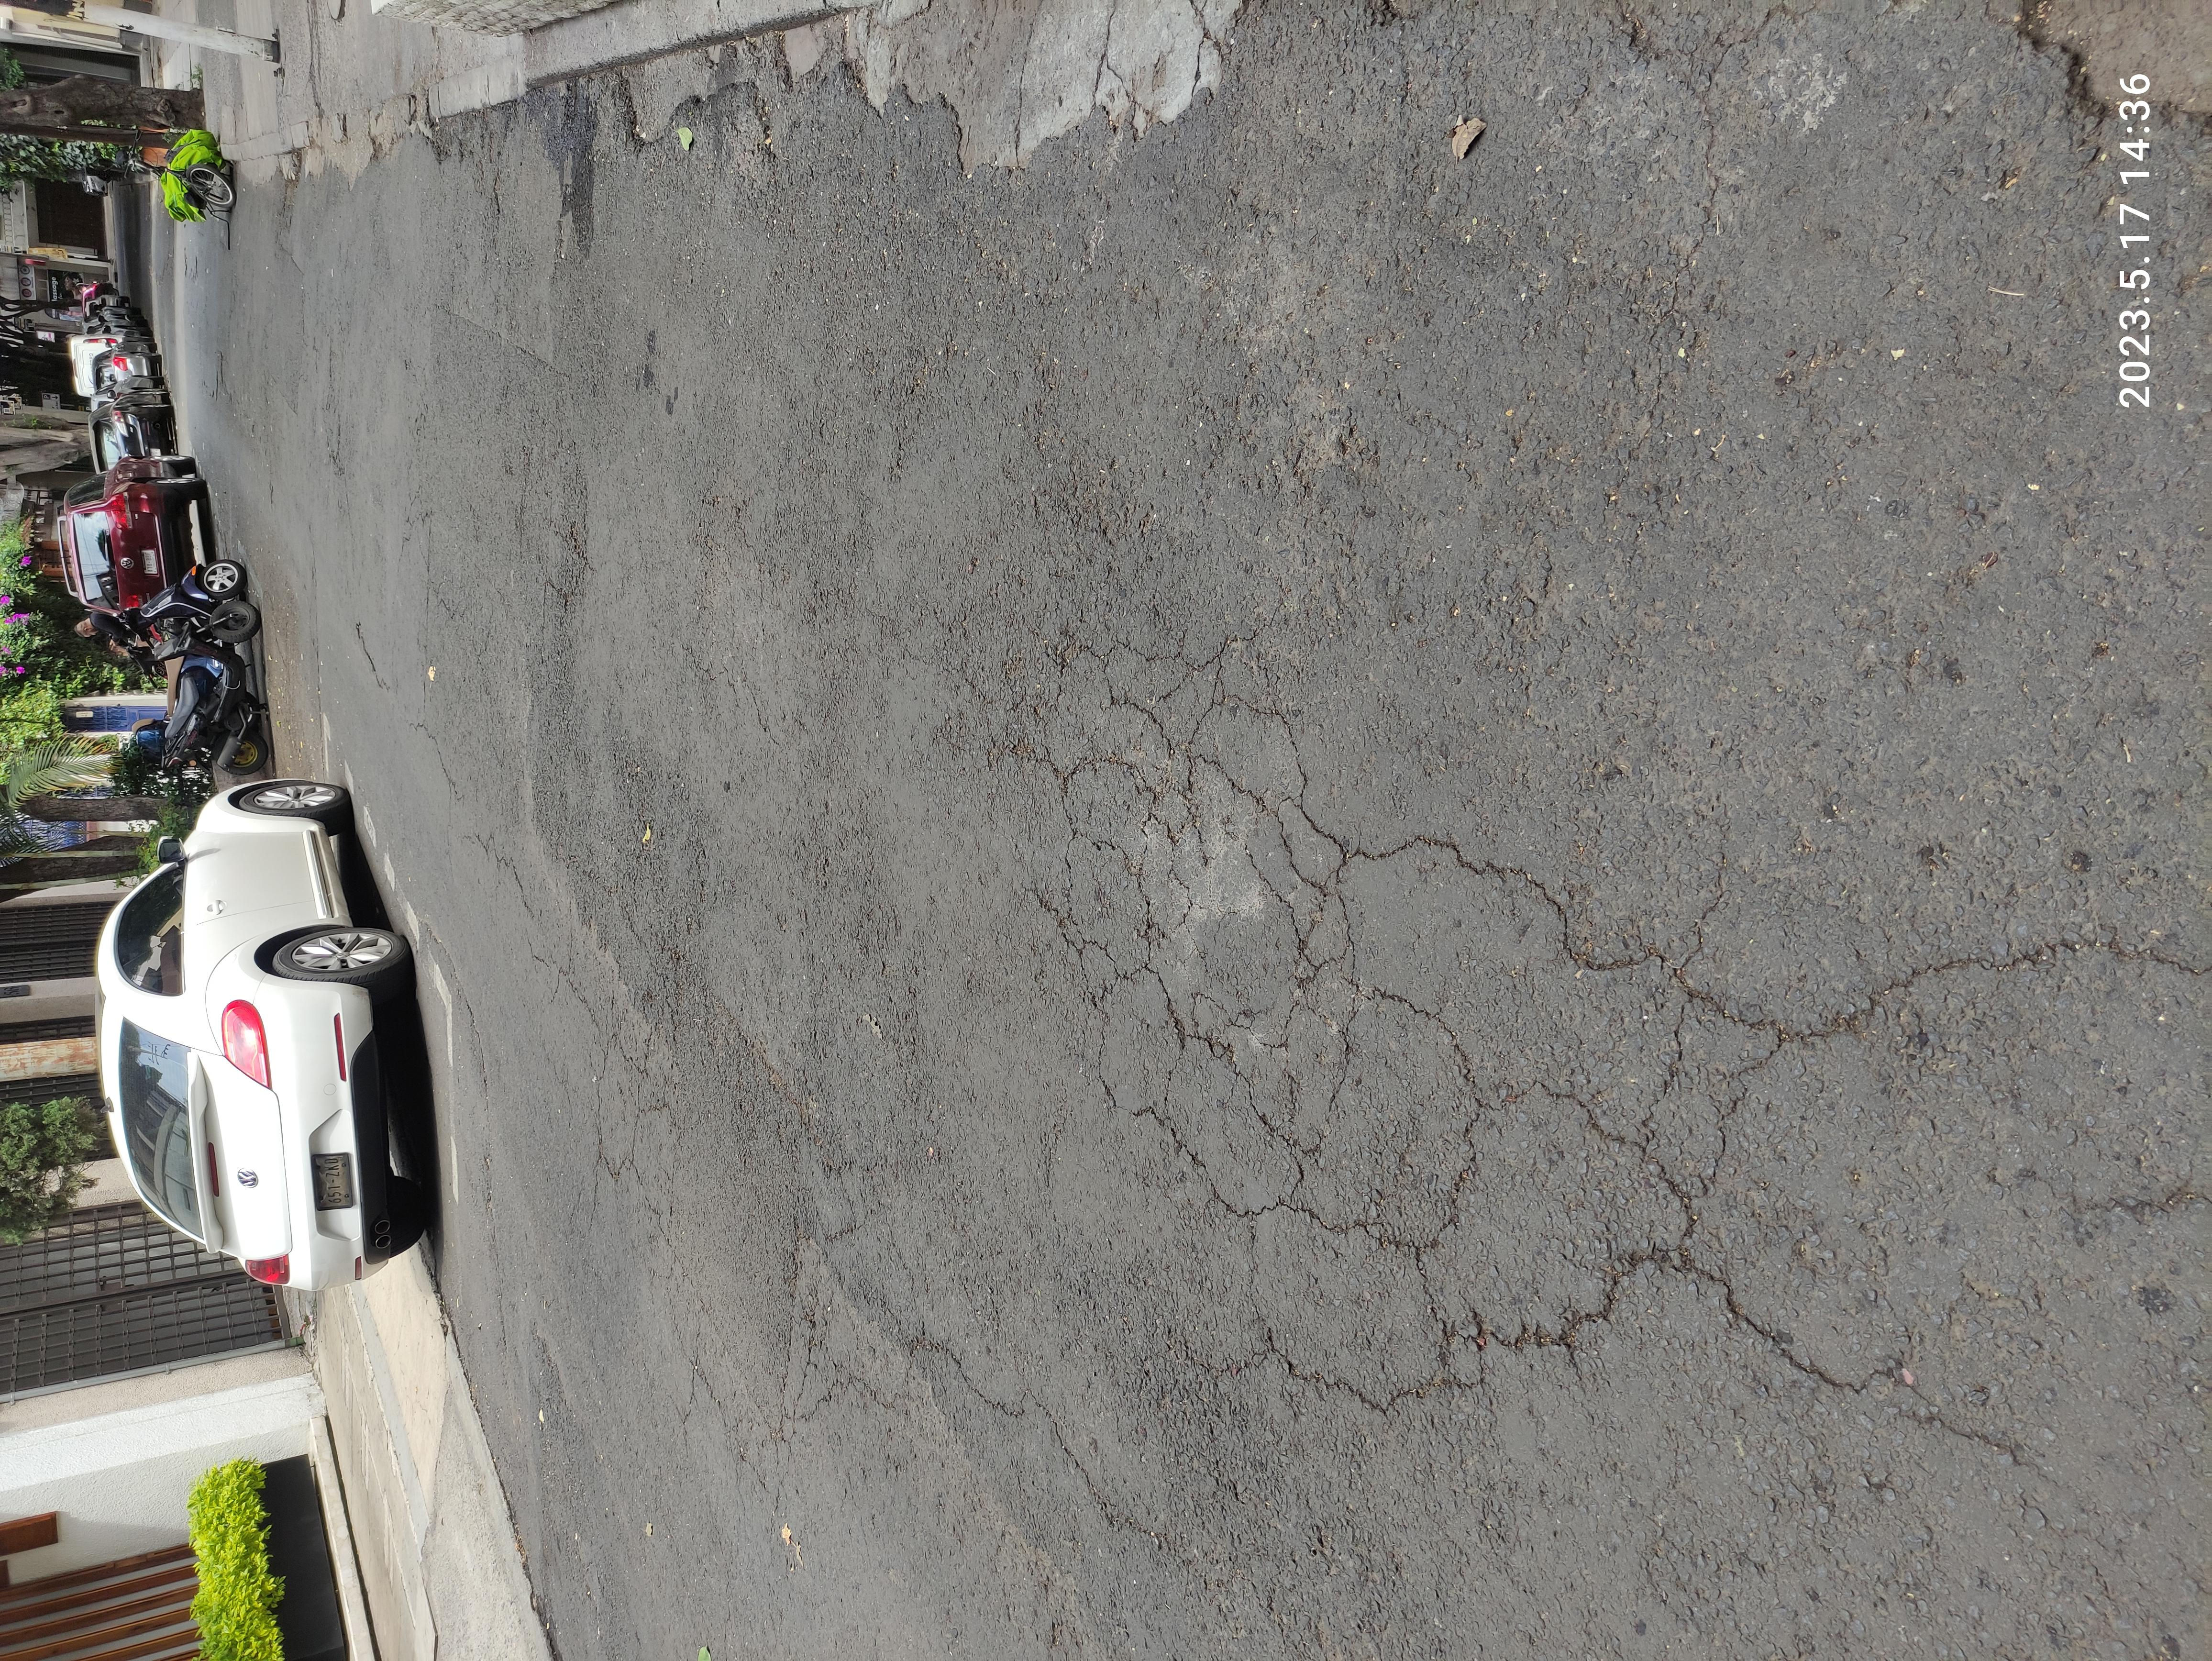alligator-crack: (208, 783, 1226, 1528)
